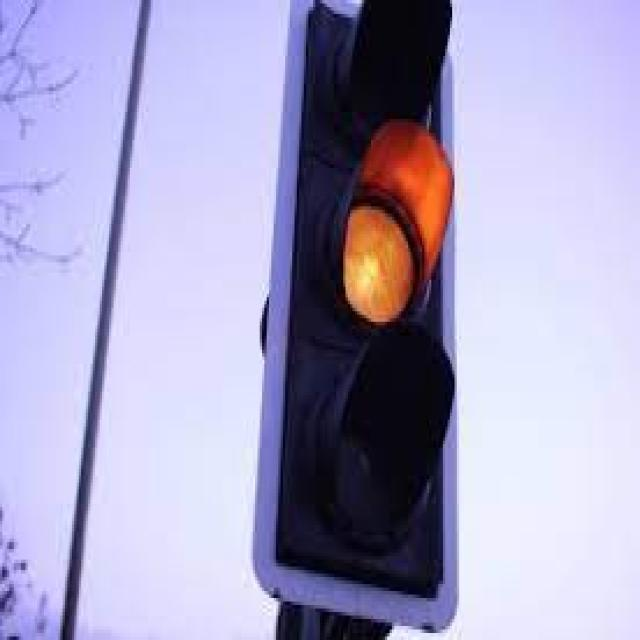yellow_light: (278, 0, 454, 596)
